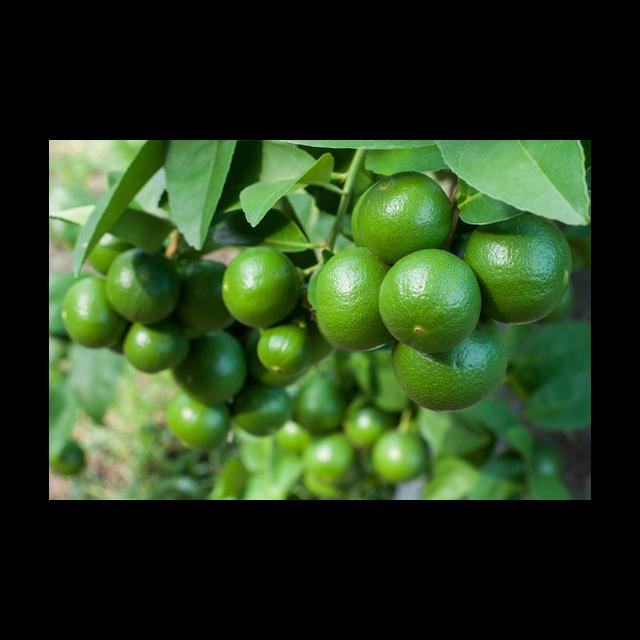lime: (460, 214, 573, 326), (378, 249, 483, 355), (356, 174, 454, 268), (396, 323, 503, 409), (312, 251, 393, 351), (224, 248, 302, 329), (103, 249, 180, 325), (60, 275, 130, 352), (179, 332, 247, 409), (164, 392, 232, 453), (121, 319, 189, 375), (258, 321, 312, 386), (304, 434, 357, 499), (233, 383, 293, 439), (373, 425, 429, 484)
